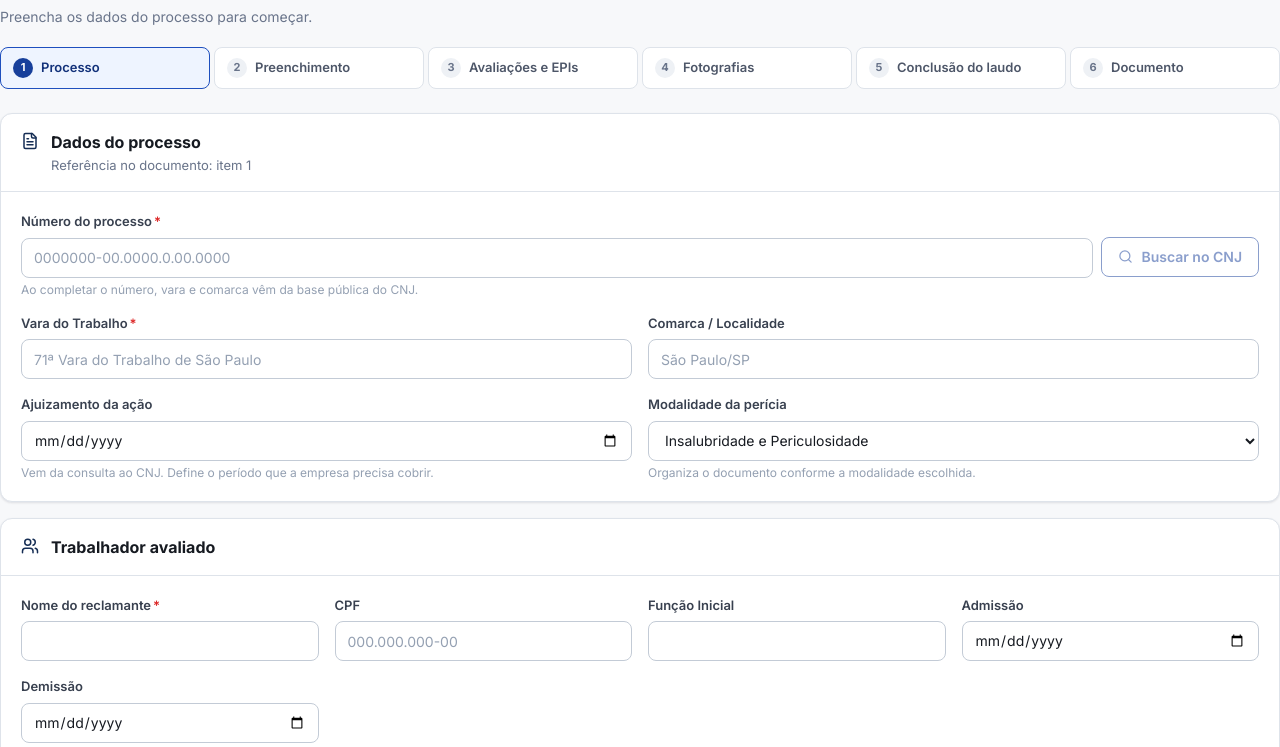
Test: PericiaEditor — cabeçalho do documento novo › mantém no Parecer somente o campo consolidado legado
Click the button "5 Conclusão do laudo": (961, 68) x1=856 y1=46 x2=1066 y2=88
(page scrolled)
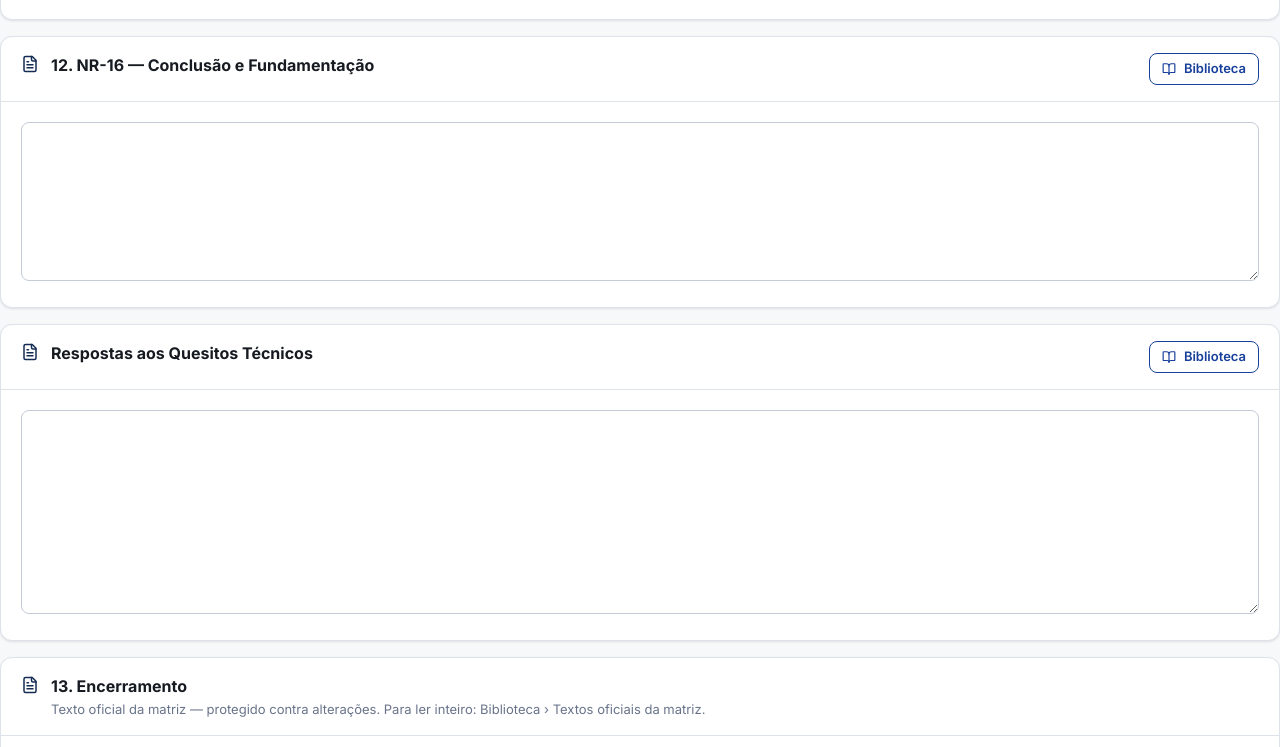
Result: the heading "Respostas aos Quesitos Técnicos" is shown at x1=51 y1=340 x2=313 y2=364
